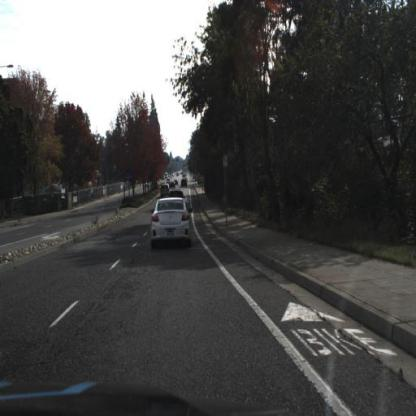car: (148, 196, 192, 246), (167, 187, 186, 203), (158, 184, 172, 200), (180, 176, 188, 190)
